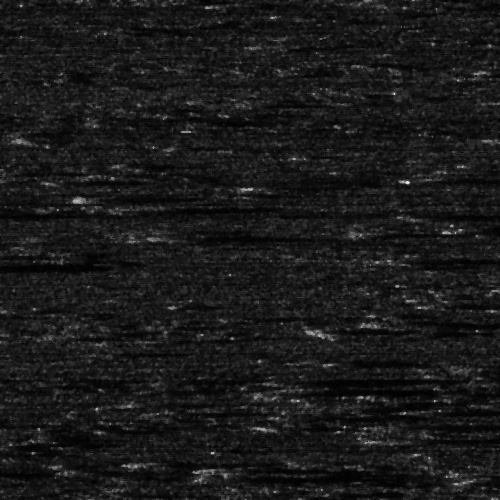object: (154, 466, 289, 485), (180, 460, 273, 479), (451, 274, 500, 301), (310, 419, 425, 428), (114, 233, 219, 242), (326, 318, 419, 327), (76, 204, 181, 211), (358, 435, 441, 442), (401, 300, 464, 309), (422, 224, 475, 233), (249, 384, 312, 391), (70, 194, 123, 201), (114, 457, 155, 464), (390, 407, 443, 412), (368, 256, 399, 263), (417, 175, 458, 180), (238, 377, 291, 380)
shadow: (227, 460, 412, 479), (222, 466, 407, 485), (0, 254, 96, 277), (166, 233, 358, 242), (135, 457, 349, 464), (368, 419, 500, 428), (373, 318, 500, 327), (129, 204, 256, 211), (384, 256, 500, 263), (281, 384, 386, 391), (400, 435, 500, 442), (97, 194, 190, 201), (433, 300, 500, 309), (0, 208, 48, 219), (448, 224, 500, 233), (417, 407, 500, 412), (265, 377, 400, 380), (437, 175, 500, 180)
